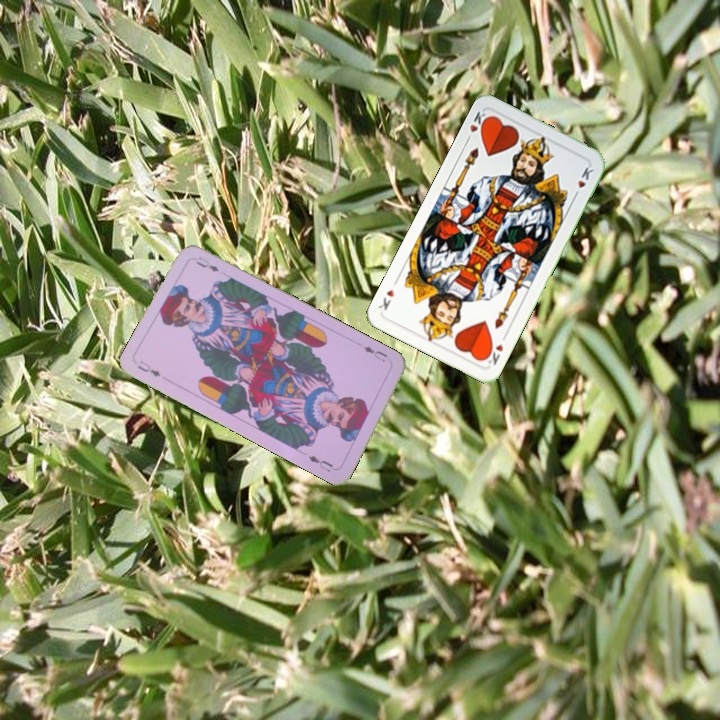EU: (359, 342, 390, 365), (133, 356, 163, 379)
HK: (480, 330, 510, 368), (462, 107, 492, 145)
